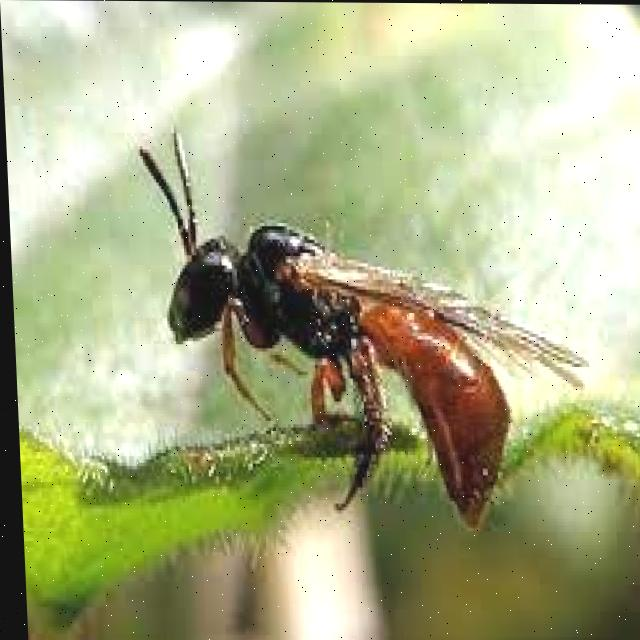Allodapula: (127, 113, 588, 539)
